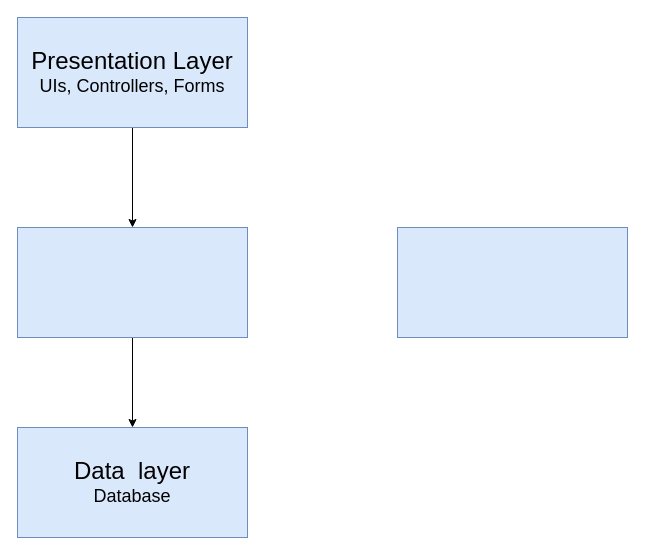
Image size: 645x555. Some labels were removed from this diagram. Here are the shapes that lost their labels. From the top down, the centre of each, then its label:
At (132,282): "Business Logic Managers, Services".
At (512,282): "Models".
